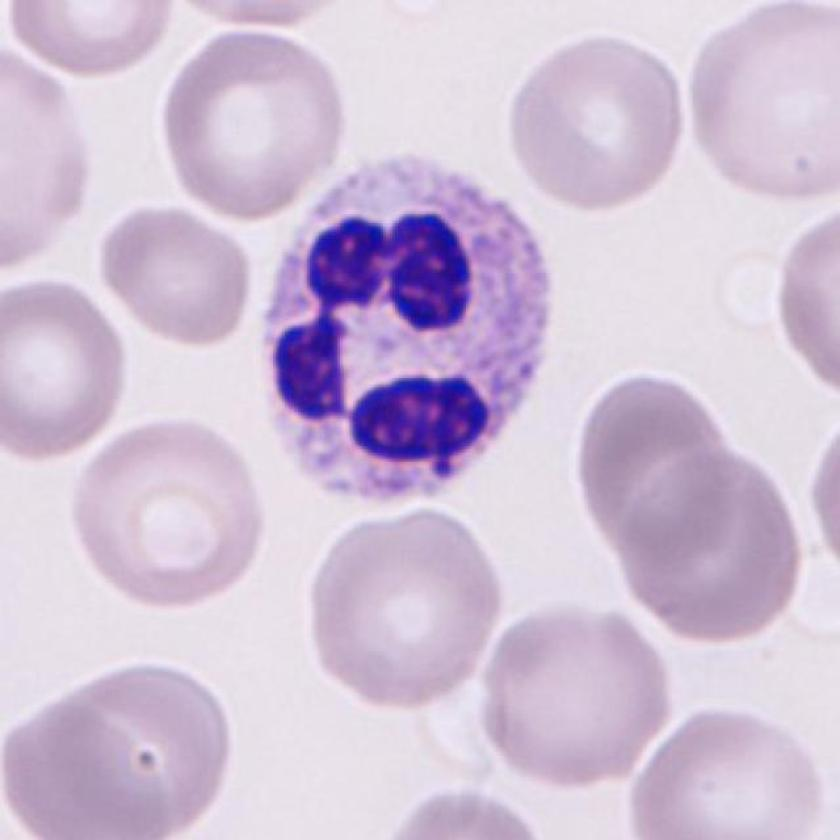neutrophil: (267, 147, 559, 500)
